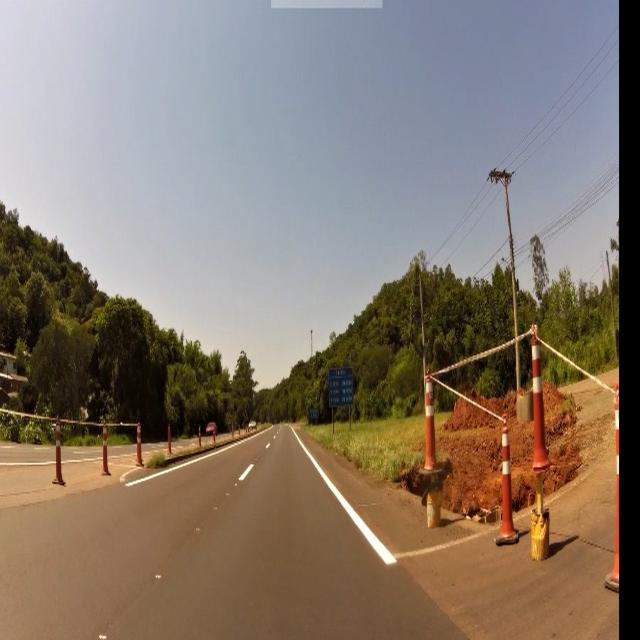LOC-6: (330, 368, 353, 406)
